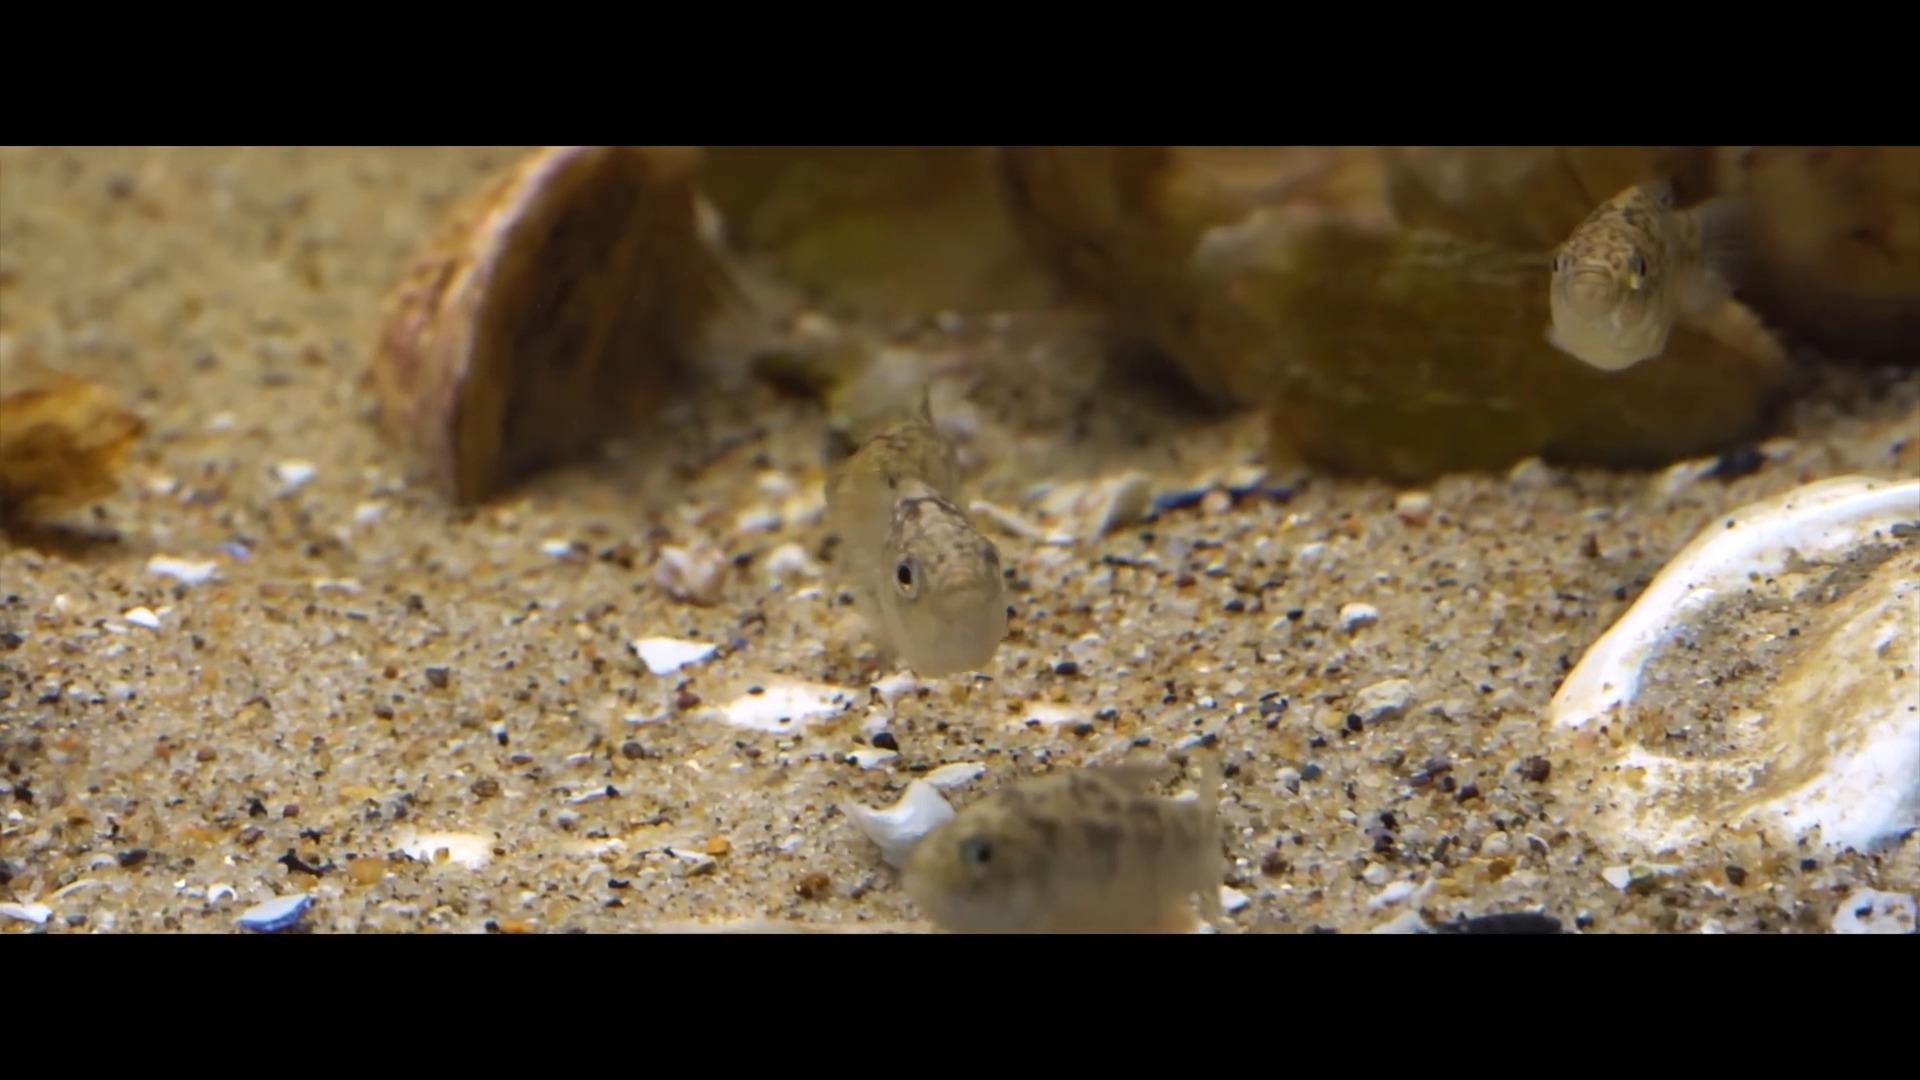Oyster: (1545, 477, 1919, 866), (364, 146, 754, 504), (998, 148, 1315, 409), (1727, 146, 1916, 355), (0, 375, 148, 535)
